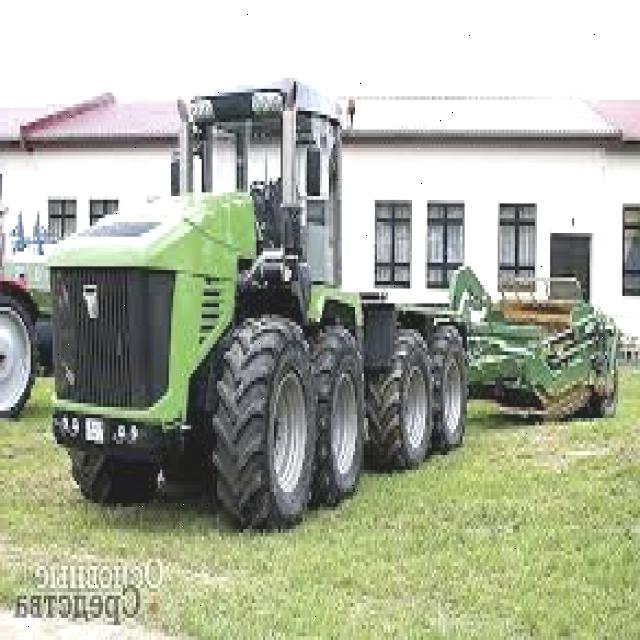Tratores - v5 YOLO V8L 2024-11-13: (46, 79, 468, 528)
